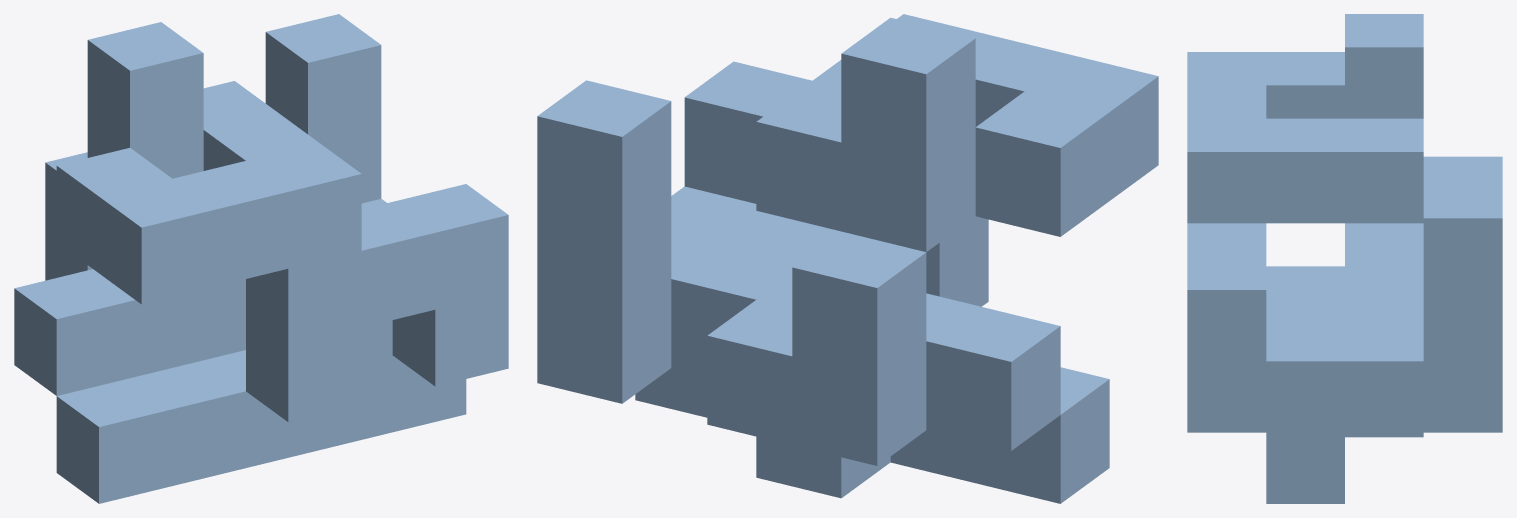
3 renders of one model, left to right at view 1: azimuth 30°, elevation 25°; view 2: azimuth 150°, elevation 25°; view 3: azimuth 270°, elevation 25°, orthographic. The views are drawn at different scales.
Visible parts, largest first — view 1: _changes (2).012; view 2: _changes (2).012; view 3: _changes (2).012.
Boxes of the visible parts, box(x1,y1,x2,y2) form: _changes (2).012: box(14, 14, 508, 503); _changes (2).012: box(537, 14, 1158, 503); _changes (2).012: box(1187, 14, 1502, 503).
Size of the model in its own units: 0.1999 by 0.1999 by 0.1599.
